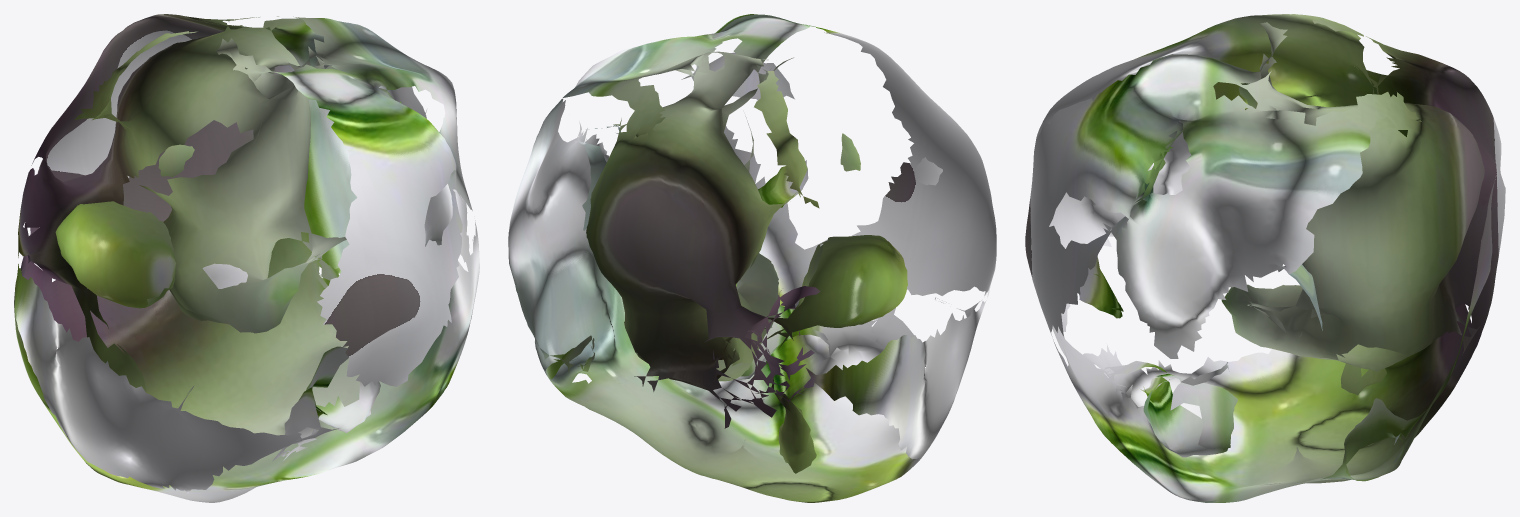
3 renders of one model, left to right at view 1: azimuth 30°, elevation 25°; view 2: azimuth 150°, elevation 25°; view 3: azimuth 270°, elevation 25°, orthographic. The views are drawn at different scales.
Parts seen in each view (by area): view 1: Renderer Node; view 2: Renderer Node; view 3: Renderer Node.
Part boxes in pixels (x1,y1,x2,y2): Renderer Node: [14, 14, 479, 502]; Renderer Node: [508, 14, 996, 502]; Renderer Node: [1025, 14, 1505, 502].
Size of the model in its own units: 1.07 by 1.14 by 1.12.
1 material, 1 textured.
